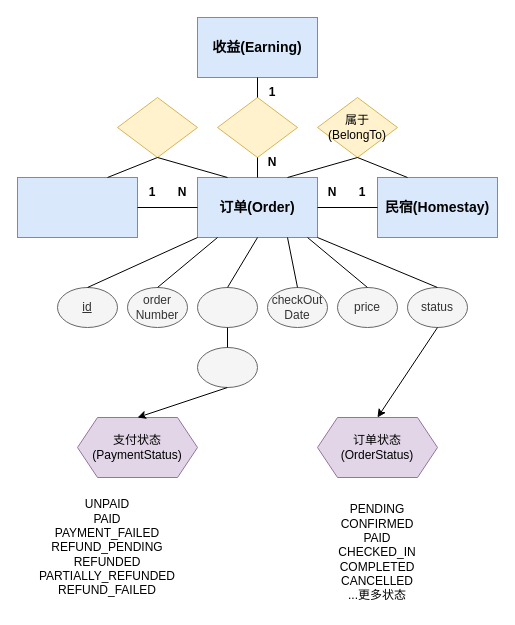
The diagram is 515 pixels wide and 625 high, and some of its shapes have lost their labels. The centre of each missing label's shape, as x and y in pixels:
checkIn Date: (227,307)
payment Status: (227,367)
产生 (Generate): (257,127)
用户(User): (77,207)
预订 (Book): (157,127)
